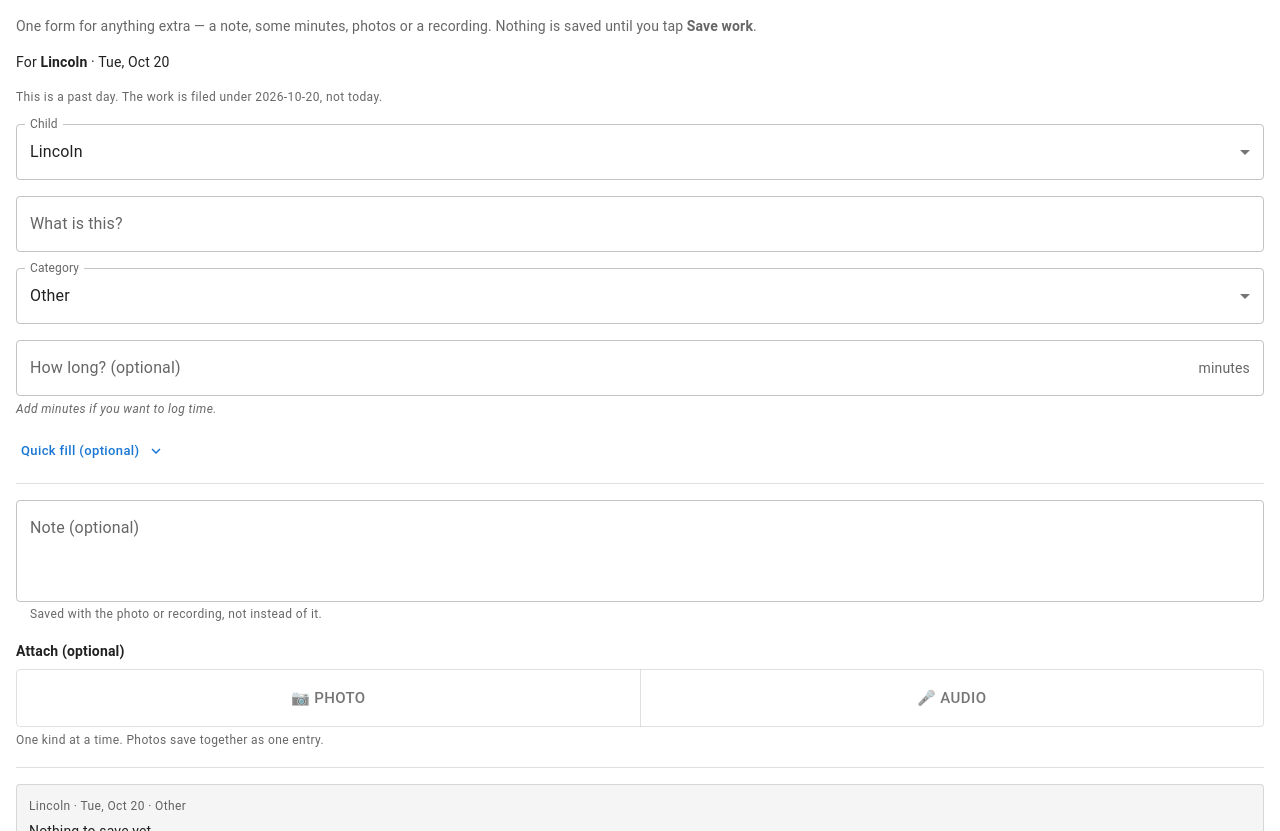
Test case: Log work + real AudioRecorder — a stopped take is in the draft › releases a permission granted after the surface was replaced
In the text box labelled "Note (optional)": x=640, y=551 [30, 516, 1250, 585], type "Lincoln narrating"
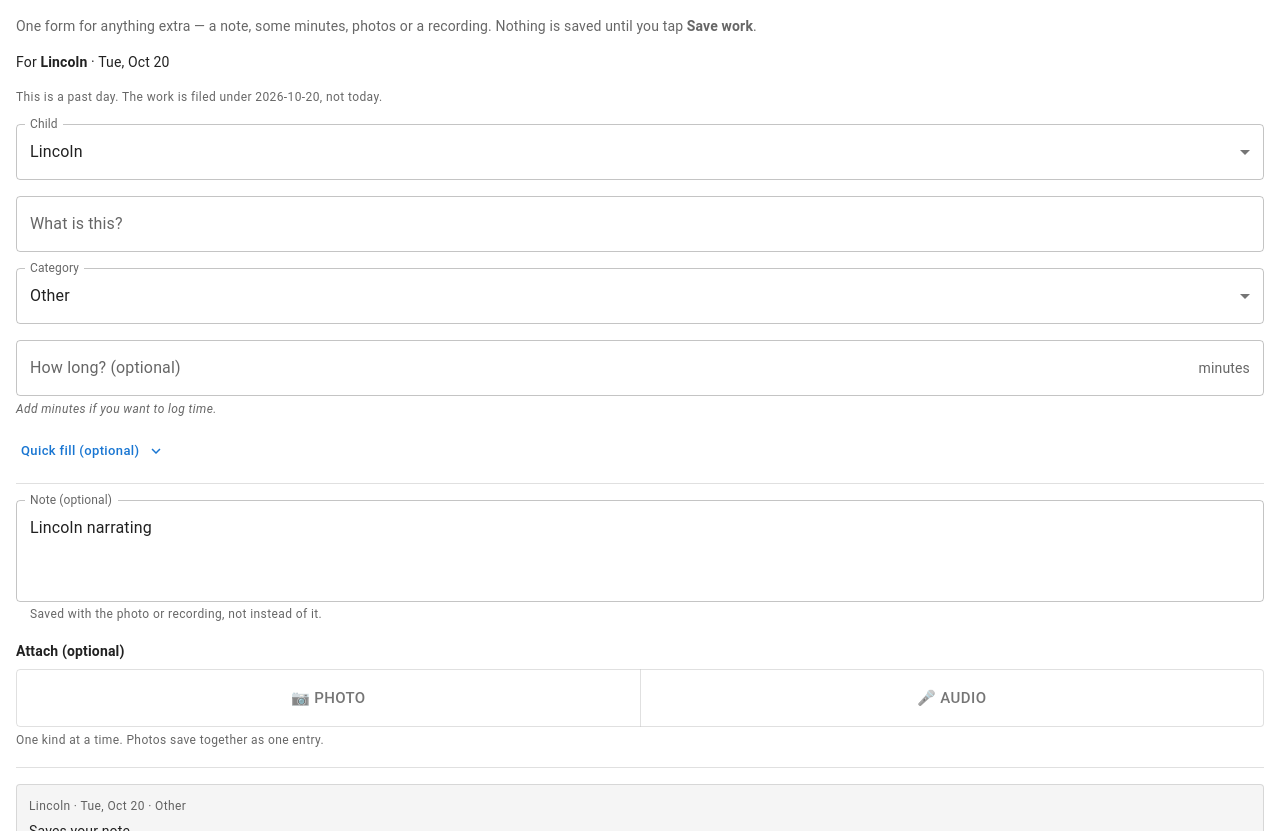
Click the button "🎤 Audio": x=952, y=698 [640, 668, 1264, 727]
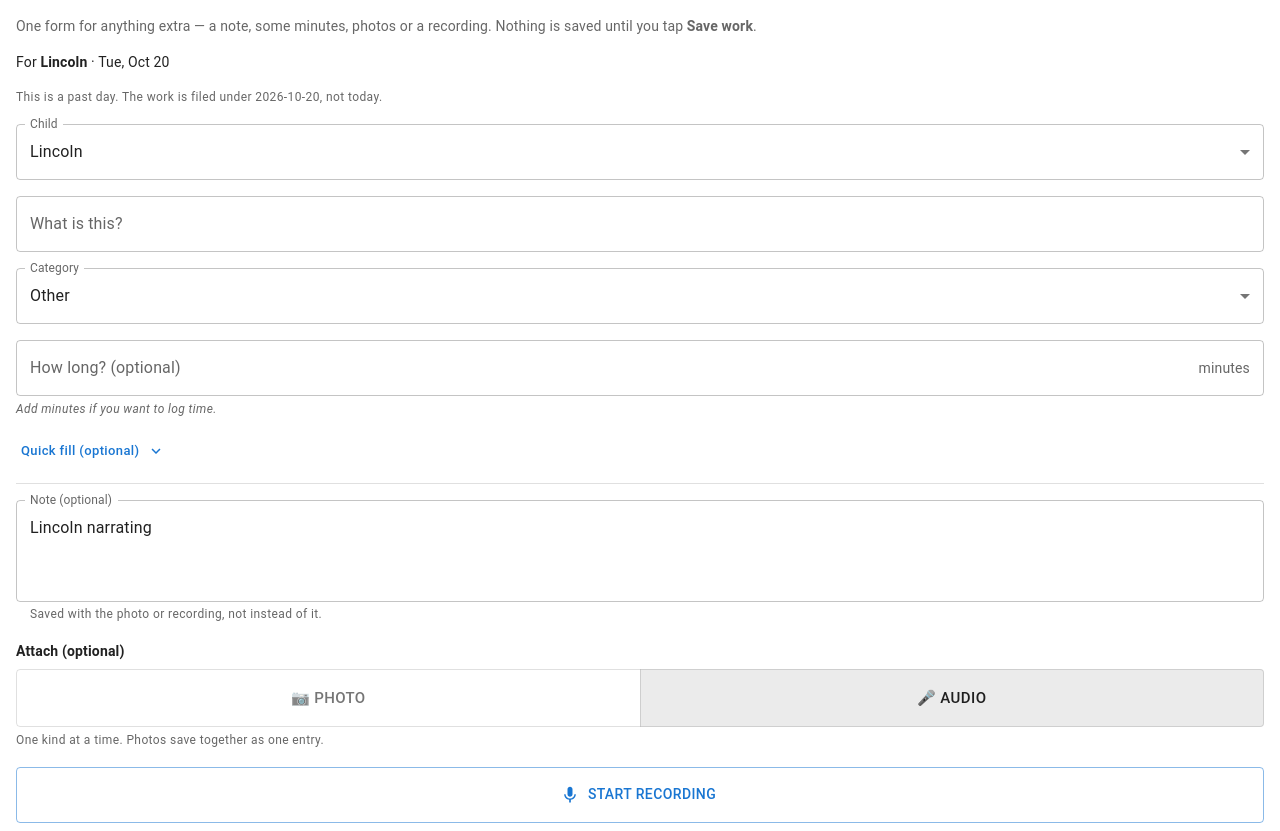
Click the button "Start Recording": x=640, y=795 [16, 767, 1264, 823]
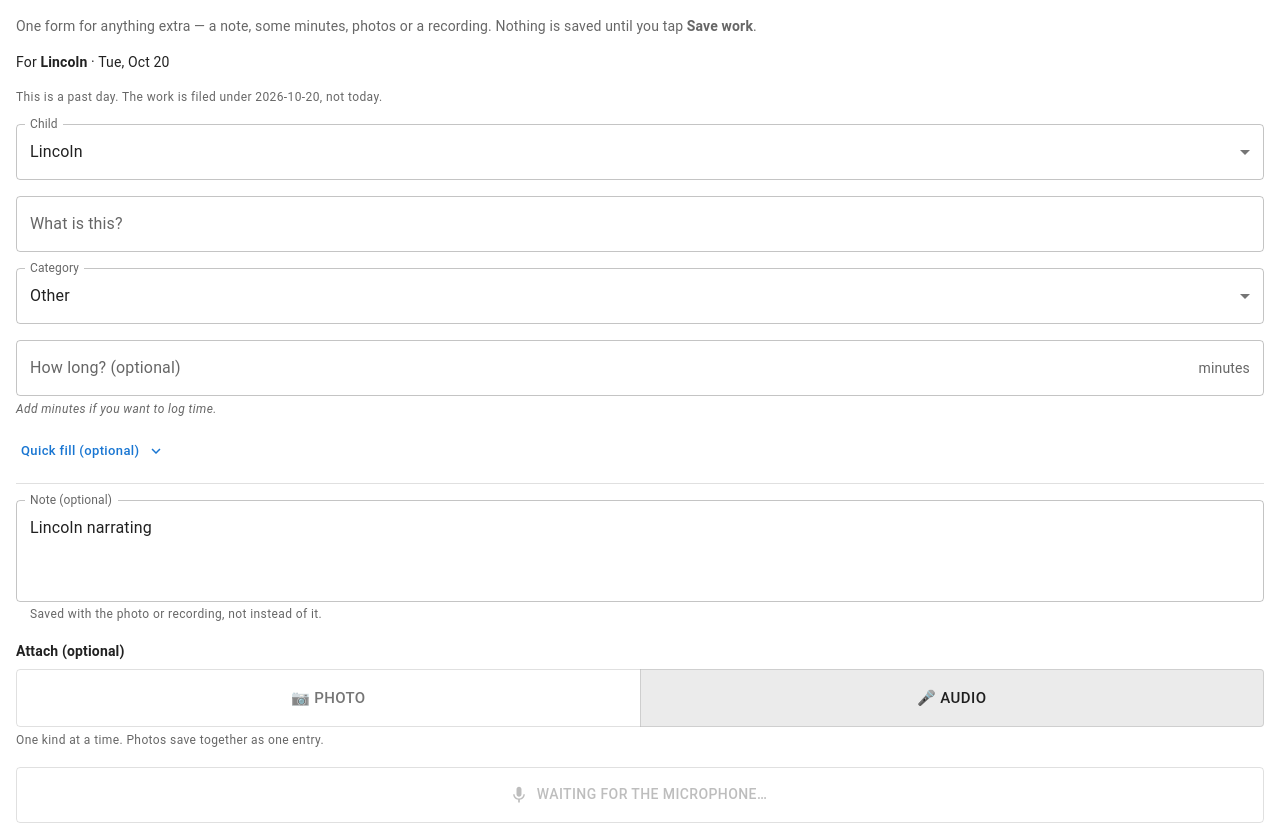
# The parent gives up on audio while the prompt is still open.
Click the button "📷 Photo": x=328, y=698 [16, 668, 640, 727]
(page scrolled)
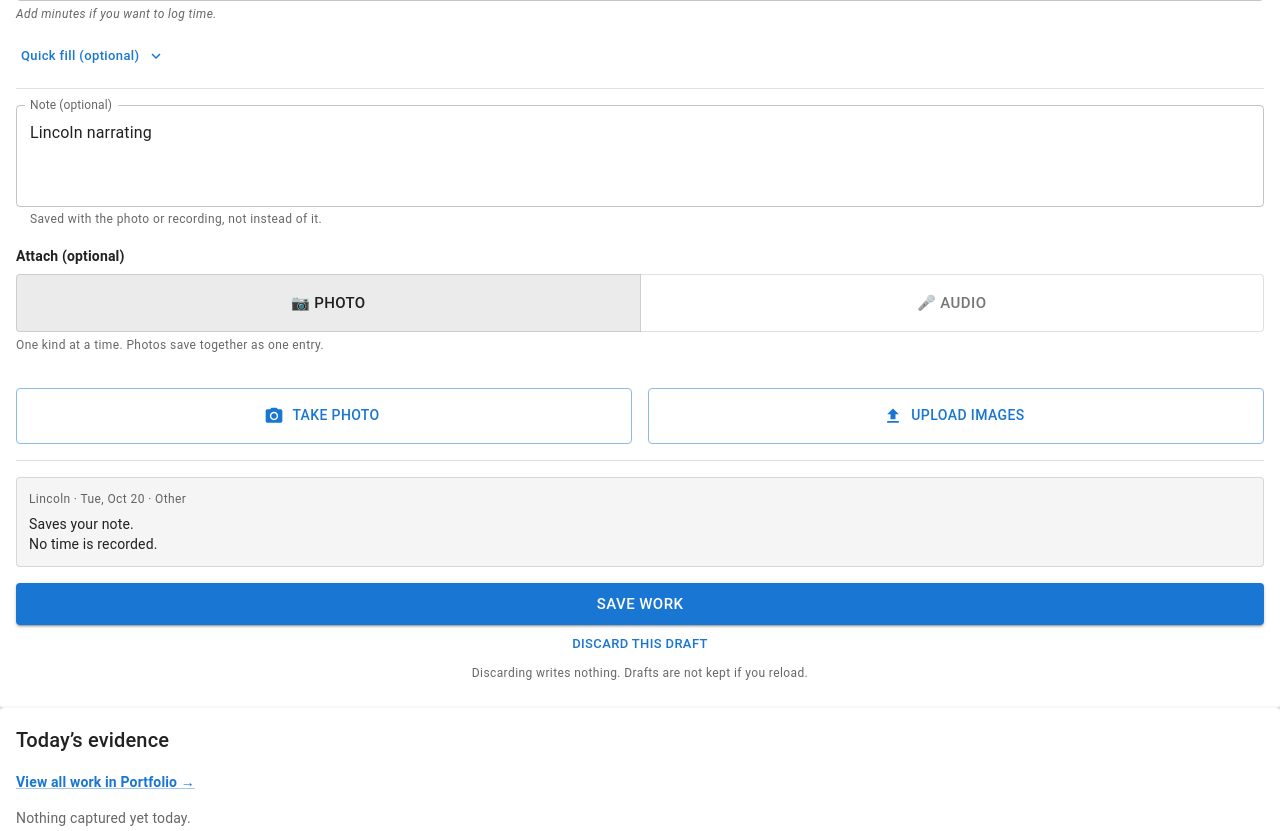
Check: the button "Save work" is enabled, box [16, 583, 1264, 625]
